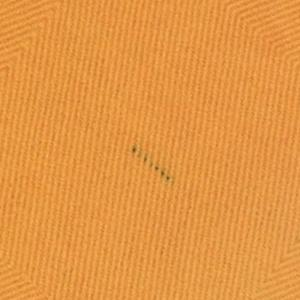stain: (129, 140, 175, 187)
